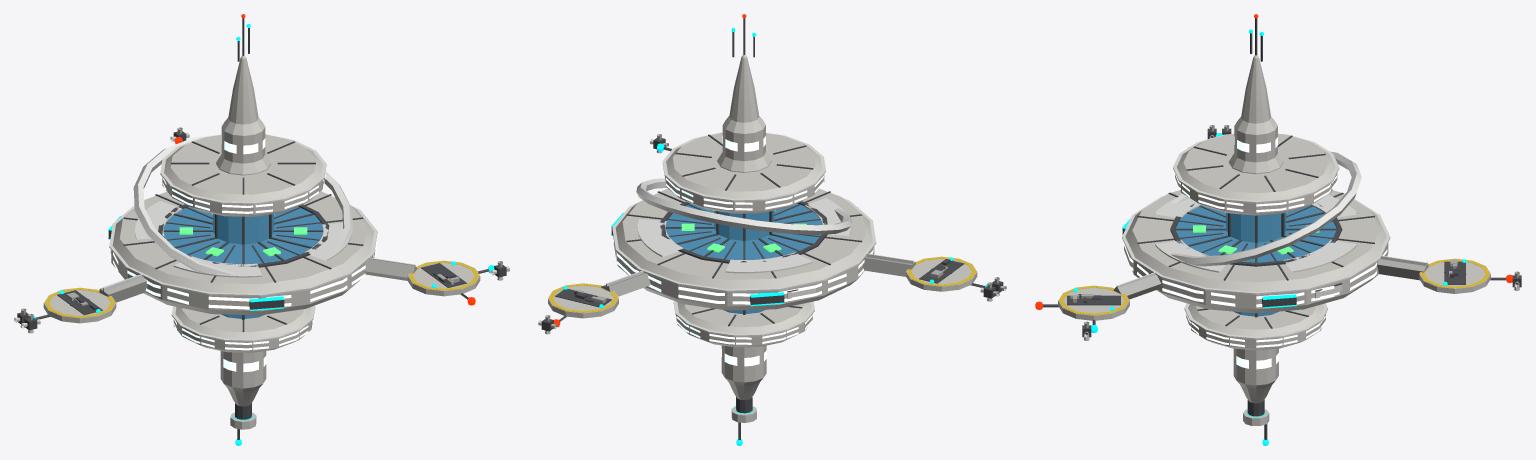
The model's file is company_seat.glb.
The picture shows the model from 3 angles, left to right: view 1: azimuth 30°, elevation 25°; view 2: azimuth 150°, elevation 25°; view 3: azimuth 270°, elevation 25°; orthographic projection.
Parts seen in each view (by area): view 1: company_seat; view 2: company_seat; view 3: company_seat.
Boxes of the visible parts, box(x1,y1,x2,y2) form: company_seat: box(14, 14, 509, 445); company_seat: box(538, 14, 1006, 445); company_seat: box(1035, 14, 1521, 445).
Bounding box in the file's own units: 1.56 × 1.53 × 1.57.
